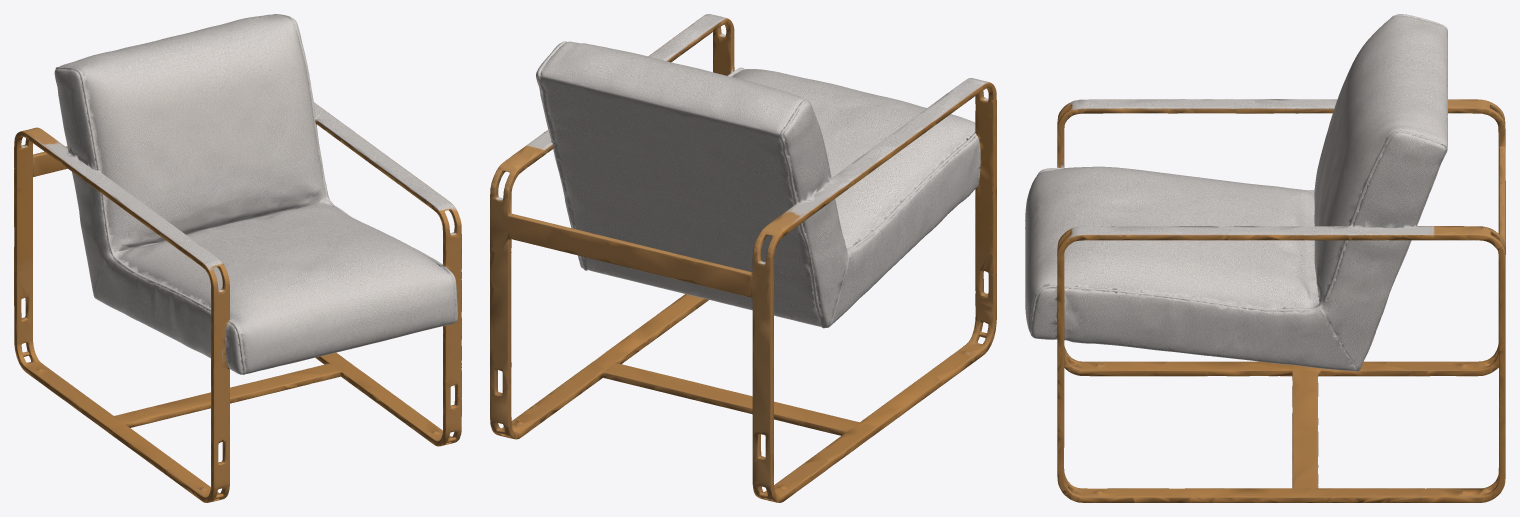
Rendered from studio-noir-chair.glb.
3 renders of one model, left to right at view 1: azimuth 30°, elevation 25°; view 2: azimuth 150°, elevation 25°; view 3: azimuth 270°, elevation 25°, orthographic. The views are drawn at different scales.
Visible parts, largest first — view 1: mesh_node; view 2: mesh_node; view 3: mesh_node.
Part boxes in pixels (box(x1,y1,x2,y2)): mesh_node: box(14, 14, 461, 502); mesh_node: box(490, 14, 996, 502); mesh_node: box(1025, 14, 1505, 502).
Size of the model in its own units: 1.27 by 1.59 by 1.9.
1 material, 1 textured.
